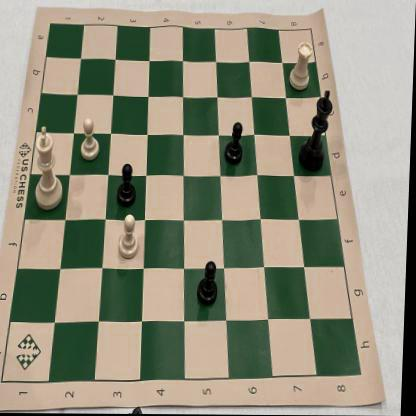black-king: (296, 87, 336, 173)
black-pawn: (220, 115, 248, 169), (115, 156, 141, 212), (198, 258, 224, 308)
white-king: (26, 122, 72, 216)
white-pawn: (116, 209, 144, 264), (78, 115, 106, 168)
white-rook: (285, 35, 315, 94)
